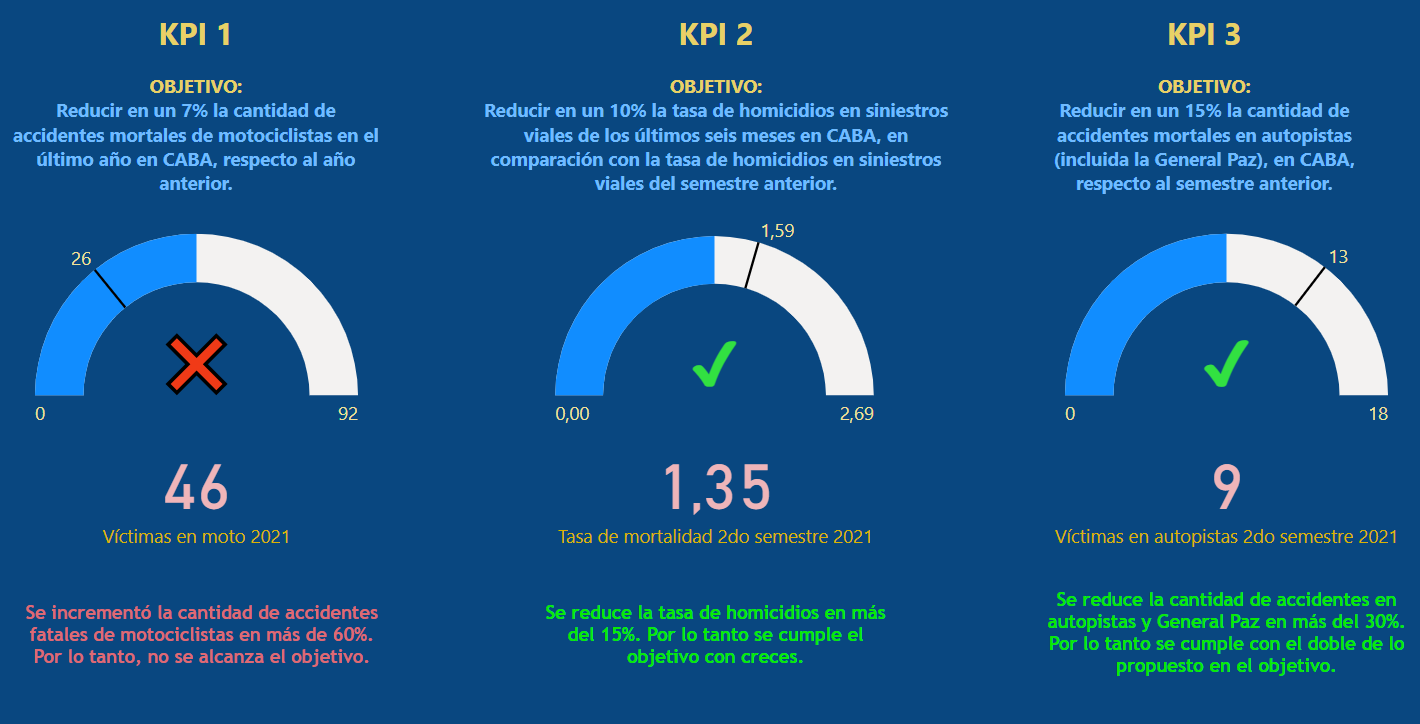

Layout of this report page (visuals, bound fields, positions):
{"tool":"powerbi","page":{"name":"KPIs","canvas":[1280,720],"ordinal":3},"visuals":[{"type":"gauge","title":"KPI 1","fields":{"Y":["Medidas.VictimasMoto2021"],"TargetValue":["Medidas.Objetivo"]},"box":[27.6,234.6,328.6,180.3],"z":0},{"type":"card","fields":{"Values":["Medidas.VictimasMoto2021"]},"box":[94.9,406.3,194.1,110.4],"z":1000},{"type":"gauge","title":"KPI 2","fields":{"TargetValue":["Medidas.ObjetivoMortalidad"],"Y":["Medidas.TasaSemestre22021"]},"box":[474.4,212.2,328.6,202.7],"z":2000},{"type":"card","fields":{"Values":["Medidas.TasaSemestre22021"]},"box":[495.1,406.3,288.9,110.4],"z":3000},{"type":"textbox","box":[27.2,43,327.5,206.3],"z":4000},{"type":"textbox","box":[424.1,43,431.1,191.4],"z":5000},{"type":"gauge","title":"KPI 2","fields":{"Y":["Medidas.Autopistas2021"],"TargetValue":["Medidas.ObjetivoAutopistas"]},"box":[916,234.6,328.6,180.3],"z":6000},{"type":"textbox","box":[897,43.3,328.2,206],"z":7000},{"type":"card","fields":{"Values":["Medidas.Autopistas2021"]},"box":[916,406.3,328.6,110.4],"z":8000},{"type":"textbox","box":[481.3,552,316.5,100.1],"z":9000},{"type":"textbox","box":[27.6,552,337.3,76.8],"z":10000},{"type":"textbox","box":[916,540.8,328.6,100.1],"z":11000}]}

Visuals, with their boxes on the page's 1280x720 design canvas (x1, y1, x2, y2). These are canvas units, not pixel positions in the 1420x724 screenshot, which may show the page scaled, cropped or inside an application window:
"KPI 1" gauge: locate(28, 235, 356, 415)
card - Medidas.VictimasMoto2021: locate(95, 406, 289, 517)
"KPI 2" gauge: locate(474, 212, 803, 415)
card - Medidas.TasaSemestre22021: locate(495, 406, 784, 517)
textbox: locate(27, 43, 355, 249)
textbox: locate(424, 43, 855, 234)
"KPI 2" gauge: locate(916, 235, 1245, 415)
textbox: locate(897, 43, 1225, 249)
card - Medidas.Autopistas2021: locate(916, 406, 1245, 517)
textbox: locate(481, 552, 798, 652)
textbox: locate(28, 552, 365, 629)
textbox: locate(916, 541, 1245, 641)
